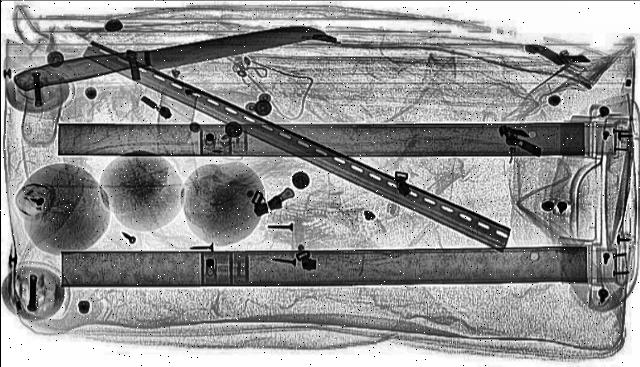Knife: (7, 15, 329, 95)
